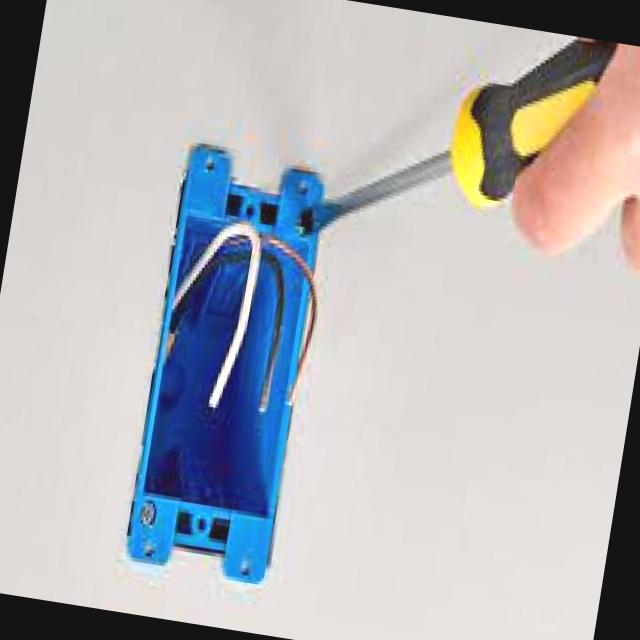screwdriver: (325, 40, 617, 224)
